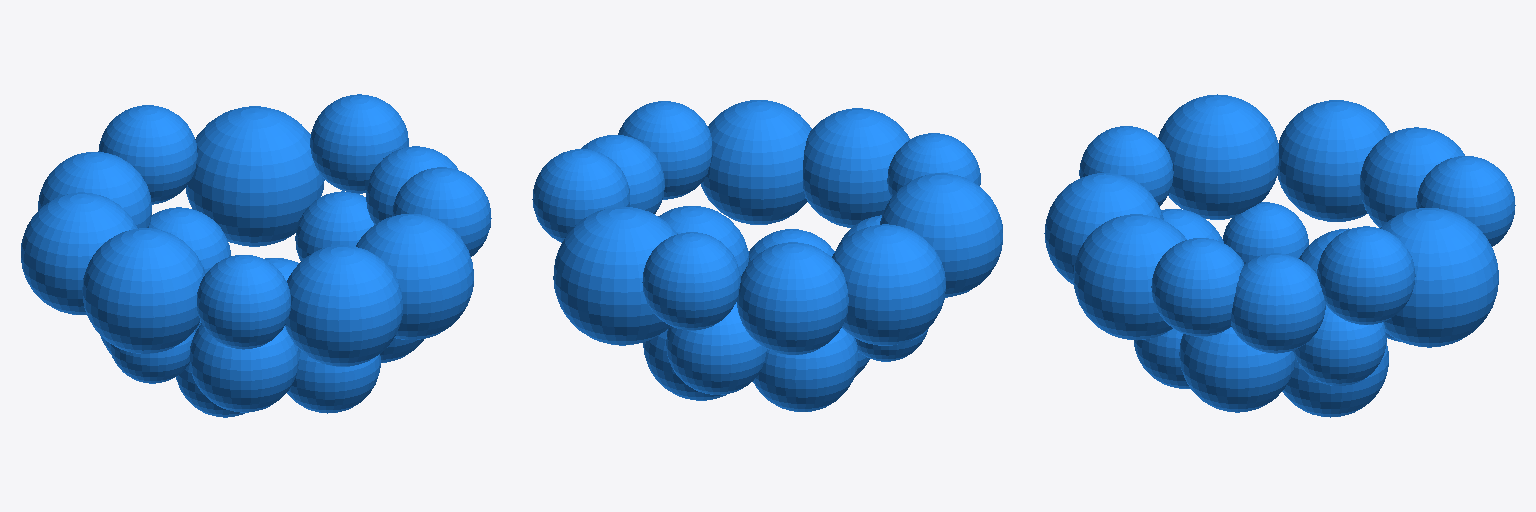
URDF robot description (bowl):
<?xml version="1.0"?>
<robot name="bowl">
  <!-- morphit:centroid 0.002712 0.000225 0.065892 -->
  <material name="default_color">
    <color rgba="0.200000 0.600000 1.000000 1.000000"/>
  </material>
  <link name="base">
    <inertial>
      <mass value="0.001000"/>
      <inertia ixx="0.000010" ixy="0.0" ixz="0.0" iyy="0.000010" iyz="0.0" izz="0.000010"/>
    </inertial>
  </link>
  <link name="sphere_0">
    <visual>
      <origin xyz="0 0 0" rpy="0 0 0"/>
      <geometry><sphere radius="0.041336"/></geometry>
      <material name="default_color"/>
    </visual>
    <collision>
      <origin xyz="0 0 0" rpy="0 0 0"/>
      <geometry><sphere radius="0.041336"/></geometry>
    </collision>
    <inertial>
      <mass value="0.058488"/>
      <inertia ixx="0.000040" ixy="0.0" ixz="0.0" iyy="0.000040" iyz="0.0" izz="0.000040"/>
    </inertial>
  </link>
  <joint name="sphere_0_fixed" type="fixed">
    <parent link="base"/>
    <child link="sphere_0"/>
    <origin xyz="0.031090 0.035088 -0.057666" rpy="0 0 0"/>
  </joint>
  <link name="sphere_1">
    <visual>
      <origin xyz="0 0 0" rpy="0 0 0"/>
      <geometry><sphere radius="0.039799"/></geometry>
      <material name="default_color"/>
    </visual>
    <collision>
      <origin xyz="0 0 0" rpy="0 0 0"/>
      <geometry><sphere radius="0.039799"/></geometry>
    </collision>
    <inertial>
      <mass value="0.052204"/>
      <inertia ixx="0.000033" ixy="0.0" ixz="0.0" iyy="0.000033" iyz="0.0" izz="0.000033"/>
    </inertial>
  </link>
  <joint name="sphere_1_fixed" type="fixed">
    <parent link="base"/>
    <child link="sphere_1"/>
    <origin xyz="-0.059580 0.047767 -0.042110" rpy="0 0 0"/>
  </joint>
  <link name="sphere_2">
    <visual>
      <origin xyz="0 0 0" rpy="0 0 0"/>
      <geometry><sphere radius="0.042830"/></geometry>
      <material name="default_color"/>
    </visual>
    <collision>
      <origin xyz="0 0 0" rpy="0 0 0"/>
      <geometry><sphere radius="0.042830"/></geometry>
    </collision>
    <inertial>
      <mass value="0.065063"/>
      <inertia ixx="0.000048" ixy="0.0" ixz="0.0" iyy="0.000048" iyz="0.0" izz="0.000048"/>
    </inertial>
  </link>
  <joint name="sphere_2_fixed" type="fixed">
    <parent link="base"/>
    <child link="sphere_2"/>
    <origin xyz="-0.005507 -0.124218 0.023151" rpy="0 0 0"/>
  </joint>
  <link name="sphere_3">
    <visual>
      <origin xyz="0 0 0" rpy="0 0 0"/>
      <geometry><sphere radius="0.037044"/></geometry>
      <material name="default_color"/>
    </visual>
    <collision>
      <origin xyz="0 0 0" rpy="0 0 0"/>
      <geometry><sphere radius="0.037044"/></geometry>
    </collision>
    <inertial>
      <mass value="0.042095"/>
      <inertia ixx="0.000023" ixy="0.0" ixz="0.0" iyy="0.000023" iyz="0.0" izz="0.000023"/>
    </inertial>
  </link>
  <joint name="sphere_3_fixed" type="fixed">
    <parent link="base"/>
    <child link="sphere_3"/>
    <origin xyz="0.015884 -0.067417 -0.047225" rpy="0 0 0"/>
  </joint>
  <link name="sphere_4">
    <visual>
      <origin xyz="0 0 0" rpy="0 0 0"/>
      <geometry><sphere radius="0.044632"/></geometry>
      <material name="default_color"/>
    </visual>
    <collision>
      <origin xyz="0 0 0" rpy="0 0 0"/>
      <geometry><sphere radius="0.044632"/></geometry>
    </collision>
    <inertial>
      <mass value="0.073627"/>
      <inertia ixx="0.000059" ixy="0.0" ixz="0.0" iyy="0.000059" iyz="0.0" izz="0.000059"/>
    </inertial>
  </link>
  <joint name="sphere_4_fixed" type="fixed">
    <parent link="base"/>
    <child link="sphere_4"/>
    <origin xyz="0.062786 -0.102110 0.020827" rpy="0 0 0"/>
  </joint>
  <link name="sphere_5">
    <visual>
      <origin xyz="0 0 0" rpy="0 0 0"/>
      <geometry><sphere radius="0.043275"/></geometry>
      <material name="default_color"/>
    </visual>
    <collision>
      <origin xyz="0 0 0" rpy="0 0 0"/>
      <geometry><sphere radius="0.043275"/></geometry>
    </collision>
    <inertial>
      <mass value="0.067112"/>
      <inertia ixx="0.000050" ixy="0.0" ixz="0.0" iyy="0.000050" iyz="0.0" izz="0.000050"/>
    </inertial>
  </link>
  <joint name="sphere_5_fixed" type="fixed">
    <parent link="base"/>
    <child link="sphere_5"/>
    <origin xyz="-0.122482 0.039207 0.024853" rpy="0 0 0"/>
  </joint>
  <link name="sphere_6">
    <visual>
      <origin xyz="0 0 0" rpy="0 0 0"/>
      <geometry><sphere radius="0.040250"/></geometry>
      <material name="default_color"/>
    </visual>
    <collision>
      <origin xyz="0 0 0" rpy="0 0 0"/>
      <geometry><sphere radius="0.040250"/></geometry>
    </collision>
    <inertial>
      <mass value="0.054000"/>
      <inertia ixx="0.000035" ixy="0.0" ixz="0.0" iyy="0.000035" iyz="0.0" izz="0.000035"/>
    </inertial>
  </link>
  <joint name="sphere_6_fixed" type="fixed">
    <parent link="base"/>
    <child link="sphere_6"/>
    <origin xyz="-0.079346 0.095610 0.026936" rpy="0 0 0"/>
  </joint>
  <link name="sphere_7">
    <visual>
      <origin xyz="0 0 0" rpy="0 0 0"/>
      <geometry><sphere radius="0.041197"/></geometry>
      <material name="default_color"/>
    </visual>
    <collision>
      <origin xyz="0 0 0" rpy="0 0 0"/>
      <geometry><sphere radius="0.041197"/></geometry>
    </collision>
    <inertial>
      <mass value="0.057899"/>
      <inertia ixx="0.000039" ixy="0.0" ixz="0.0" iyy="0.000039" iyz="0.0" izz="0.000039"/>
    </inertial>
  </link>
  <joint name="sphere_7_fixed" type="fixed">
    <parent link="base"/>
    <child link="sphere_7"/>
    <origin xyz="0.076549 -0.030719 -0.032793" rpy="0 0 0"/>
  </joint>
  <link name="sphere_8">
    <visual>
      <origin xyz="0 0 0" rpy="0 0 0"/>
      <geometry><sphere radius="0.034897"/></geometry>
      <material name="default_color"/>
    </visual>
    <collision>
      <origin xyz="0 0 0" rpy="0 0 0"/>
      <geometry><sphere radius="0.034897"/></geometry>
    </collision>
    <inertial>
      <mass value="0.035193"/>
      <inertia ixx="0.000017" ixy="0.0" ixz="0.0" iyy="0.000017" iyz="0.0" izz="0.000017"/>
    </inertial>
  </link>
  <joint name="sphere_8_fixed" type="fixed">
    <parent link="base"/>
    <child link="sphere_8"/>
    <origin xyz="0.114779 0.060123 0.046253" rpy="0 0 0"/>
  </joint>
  <link name="sphere_9">
    <visual>
      <origin xyz="0 0 0" rpy="0 0 0"/>
      <geometry><sphere radius="0.030891"/></geometry>
      <material name="default_color"/>
    </visual>
    <collision>
      <origin xyz="0 0 0" rpy="0 0 0"/>
      <geometry><sphere radius="0.030891"/></geometry>
    </collision>
    <inertial>
      <mass value="0.024412"/>
      <inertia ixx="0.000009" ixy="0.0" ixz="0.0" iyy="0.000009" iyz="0.0" izz="0.000009"/>
    </inertial>
  </link>
  <joint name="sphere_9_fixed" type="fixed">
    <parent link="base"/>
    <child link="sphere_9"/>
    <origin xyz="-0.094188 -0.010966 -0.027999" rpy="0 0 0"/>
  </joint>
  <link name="sphere_10">
    <visual>
      <origin xyz="0 0 0" rpy="0 0 0"/>
      <geometry><sphere radius="0.033390"/></geometry>
      <material name="default_color"/>
    </visual>
    <collision>
      <origin xyz="0 0 0" rpy="0 0 0"/>
      <geometry><sphere radius="0.033390"/></geometry>
    </collision>
    <inertial>
      <mass value="0.030828"/>
      <inertia ixx="0.000014" ixy="0.0" ixz="0.0" iyy="0.000014" iyz="0.0" izz="0.000014"/>
    </inertial>
  </link>
  <joint name="sphere_10_fixed" type="fixed">
    <parent link="base"/>
    <child link="sphere_10"/>
    <origin xyz="-0.076764 -0.109143 0.036791" rpy="0 0 0"/>
  </joint>
  <link name="sphere_11">
    <visual>
      <origin xyz="0 0 0" rpy="0 0 0"/>
      <geometry><sphere radius="0.036826"/></geometry>
      <material name="default_color"/>
    </visual>
    <collision>
      <origin xyz="0 0 0" rpy="0 0 0"/>
      <geometry><sphere radius="0.036826"/></geometry>
    </collision>
    <inertial>
      <mass value="0.041356"/>
      <inertia ixx="0.000022" ixy="0.0" ixz="0.0" iyy="0.000022" iyz="0.0" izz="0.000022"/>
    </inertial>
  </link>
  <joint name="sphere_11_fixed" type="fixed">
    <parent link="base"/>
    <child link="sphere_11"/>
    <origin xyz="-0.014211 0.090044 -0.025476" rpy="0 0 0"/>
  </joint>
  <link name="sphere_12">
    <visual>
      <origin xyz="0 0 0" rpy="0 0 0"/>
      <geometry><sphere radius="0.049444"/></geometry>
      <material name="default_color"/>
    </visual>
    <collision>
      <origin xyz="0 0 0" rpy="0 0 0"/>
      <geometry><sphere radius="0.049444"/></geometry>
    </collision>
    <inertial>
      <mass value="0.100098"/>
      <inertia ixx="0.000098" ixy="0.0" ixz="0.0" iyy="0.000098" iyz="0.0" izz="0.000098"/>
    </inertial>
  </link>
  <joint name="sphere_12_fixed" type="fixed">
    <parent link="base"/>
    <child link="sphere_12"/>
    <origin xyz="0.055228 0.104644 0.016997" rpy="0 0 0"/>
  </joint>
  <link name="sphere_13">
    <visual>
      <origin xyz="0 0 0" rpy="0 0 0"/>
      <geometry><sphere radius="0.044369"/></geometry>
      <material name="default_color"/>
    </visual>
    <collision>
      <origin xyz="0 0 0" rpy="0 0 0"/>
      <geometry><sphere radius="0.044369"/></geometry>
    </collision>
    <inertial>
      <mass value="0.072329"/>
      <inertia ixx="0.000057" ixy="0.0" ixz="0.0" iyy="0.000057" iyz="0.0" izz="0.000057"/>
    </inertial>
  </link>
  <joint name="sphere_13_fixed" type="fixed">
    <parent link="base"/>
    <child link="sphere_13"/>
    <origin xyz="-0.119656 -0.044847 0.029235" rpy="0 0 0"/>
  </joint>
  <link name="sphere_14">
    <visual>
      <origin xyz="0 0 0" rpy="0 0 0"/>
      <geometry><sphere radius="0.035483"/></geometry>
      <material name="default_color"/>
    </visual>
    <collision>
      <origin xyz="0 0 0" rpy="0 0 0"/>
      <geometry><sphere radius="0.035483"/></geometry>
    </collision>
    <inertial>
      <mass value="0.036995"/>
      <inertia ixx="0.000019" ixy="0.0" ixz="0.0" iyy="0.000019" iyz="0.0" izz="0.000019"/>
    </inertial>
  </link>
  <joint name="sphere_14_fixed" type="fixed">
    <parent link="base"/>
    <child link="sphere_14"/>
    <origin xyz="0.123936 -0.003647 0.028992" rpy="0 0 0"/>
  </joint>
  <link name="sphere_15">
    <visual>
      <origin xyz="0 0 0" rpy="0 0 0"/>
      <geometry><sphere radius="0.038684"/></geometry>
      <material name="default_color"/>
    </visual>
    <collision>
      <origin xyz="0 0 0" rpy="0 0 0"/>
      <geometry><sphere radius="0.038684"/></geometry>
    </collision>
    <inertial>
      <mass value="0.047939"/>
      <inertia ixx="0.000029" ixy="0.0" ixz="0.0" iyy="0.000029" iyz="0.0" izz="0.000029"/>
    </inertial>
  </link>
  <joint name="sphere_15_fixed" type="fixed">
    <parent link="base"/>
    <child link="sphere_15"/>
    <origin xyz="-0.057223 -0.075847 -0.024365" rpy="0 0 0"/>
  </joint>
  <link name="sphere_16">
    <visual>
      <origin xyz="0 0 0" rpy="0 0 0"/>
      <geometry><sphere radius="0.035480"/></geometry>
      <material name="default_color"/>
    </visual>
    <collision>
      <origin xyz="0 0 0" rpy="0 0 0"/>
      <geometry><sphere radius="0.035480"/></geometry>
    </collision>
    <inertial>
      <mass value="0.036986"/>
      <inertia ixx="0.000019" ixy="0.0" ixz="0.0" iyy="0.000019" iyz="0.0" izz="0.000019"/>
    </inertial>
  </link>
  <joint name="sphere_16_fixed" type="fixed">
    <parent link="base"/>
    <child link="sphere_16"/>
    <origin xyz="-0.039487 -0.018508 -0.058953" rpy="0 0 0"/>
  </joint>
  <link name="sphere_17">
    <visual>
      <origin xyz="0 0 0" rpy="0 0 0"/>
      <geometry><sphere radius="0.035090"/></geometry>
      <material name="default_color"/>
    </visual>
    <collision>
      <origin xyz="0 0 0" rpy="0 0 0"/>
      <geometry><sphere radius="0.035090"/></geometry>
    </collision>
    <inertial>
      <mass value="0.035779"/>
      <inertia ixx="0.000018" ixy="0.0" ixz="0.0" iyy="0.000018" iyz="0.0" izz="0.000018"/>
    </inertial>
  </link>
  <joint name="sphere_17_fixed" type="fixed">
    <parent link="base"/>
    <child link="sphere_17"/>
    <origin xyz="-0.016223 0.130435 0.039922" rpy="0 0 0"/>
  </joint>
  <link name="sphere_18">
    <visual>
      <origin xyz="0 0 0" rpy="0 0 0"/>
      <geometry><sphere radius="0.033715"/></geometry>
      <material name="default_color"/>
    </visual>
    <collision>
      <origin xyz="0 0 0" rpy="0 0 0"/>
      <geometry><sphere radius="0.033715"/></geometry>
    </collision>
    <inertial>
      <mass value="0.031737"/>
      <inertia ixx="0.000014" ixy="0.0" ixz="0.0" iyy="0.000014" iyz="0.0" izz="0.000014"/>
    </inertial>
  </link>
  <joint name="sphere_18_fixed" type="fixed">
    <parent link="base"/>
    <child link="sphere_18"/>
    <origin xyz="0.090400 0.040940 -0.014215" rpy="0 0 0"/>
  </joint>
  <link name="sphere_19">
    <visual>
      <origin xyz="0 0 0" rpy="0 0 0"/>
      <geometry><sphere radius="0.035116"/></geometry>
      <material name="default_color"/>
    </visual>
    <collision>
      <origin xyz="0 0 0" rpy="0 0 0"/>
      <geometry><sphere radius="0.035116"/></geometry>
    </collision>
    <inertial>
      <mass value="0.035859"/>
      <inertia ixx="0.000018" ixy="0.0" ixz="0.0" iyy="0.000018" iyz="0.0" izz="0.000018"/>
    </inertial>
  </link>
  <joint name="sphere_19_fixed" type="fixed">
    <parent link="base"/>
    <child link="sphere_19"/>
    <origin xyz="0.114012 -0.056438 0.036846" rpy="0 0 0"/>
  </joint>
</robot>

--- What the picture shows (computed from the rendered views, not written in the file) ---
3 views of the same robot in one strip: view 1: azimuth 30°, elevation 25°; view 2: azimuth 150°, elevation 25°; view 3: azimuth 270°, elevation 25° (orthographic).
Robot: bowl — 21 links, 20 joints (20 fixed); root link base; default pose: every joint at zero.
Visible links, largest first — view 1: sphere_12, sphere_13, sphere_2, sphere_4, sphere_5, sphere_10, sphere_8, sphere_15, sphere_17, sphere_19, sphere_6, sphere_3 (+6 smaller); view 2: sphere_12, sphere_4, sphere_5, sphere_6, sphere_2, sphere_13, sphere_17, sphere_8, sphere_11, sphere_1, sphere_19, sphere_10 (+5 smaller); view 3: sphere_13, sphere_12, sphere_5, sphere_4, sphere_8, sphere_14, sphere_19, sphere_7, sphere_2, sphere_6, sphere_17, sphere_18 (+6 smaller).
Boxes of the visible links, x1,y1,x2,y2 form: sphere_12: [186, 106, 324, 246]; sphere_13: [82, 228, 205, 353]; sphere_2: [285, 245, 402, 366]; sphere_4: [356, 214, 473, 339]; sphere_5: [21, 192, 137, 314]; sphere_10: [197, 255, 290, 349]; sphere_8: [310, 94, 408, 193]; sphere_15: [189, 323, 298, 412]; sphere_17: [98, 105, 197, 204]; sphere_19: [392, 167, 491, 256]; sphere_6: [38, 152, 151, 228]; sphere_3: [287, 348, 380, 413]; sphere_12: [553, 207, 677, 345]; sphere_4: [701, 100, 811, 224]; sphere_5: [832, 224, 945, 345]; sphere_6: [737, 242, 848, 354]; sphere_2: [803, 108, 910, 227]; sphere_13: [880, 173, 1002, 297]; sphere_17: [642, 232, 740, 330]; sphere_8: [532, 149, 629, 242]; sphere_11: [666, 302, 766, 394]; sphere_1: [753, 328, 858, 411]; sphere_19: [618, 101, 711, 199]; sphere_10: [887, 133, 980, 197]; sphere_13: [1158, 94, 1278, 219]; sphere_12: [1380, 208, 1498, 347]; sphere_5: [1277, 100, 1390, 221]; sphere_4: [1073, 214, 1186, 339]; sphere_8: [1317, 226, 1415, 324]; sphere_14: [1231, 253, 1325, 353]; sphere_19: [1151, 238, 1243, 336]; sphere_7: [1179, 327, 1294, 412]; sphere_2: [1044, 173, 1163, 284]; sphere_6: [1360, 127, 1464, 227]; sphere_17: [1416, 156, 1515, 246]; sphere_18: [1293, 305, 1386, 385].
Bounding box of the posed robot: 0.3252 × 0.3326 × 0.1802 m (x, y, z).
Geometry: primitives only (box / cylinder / sphere), no mesh files.
